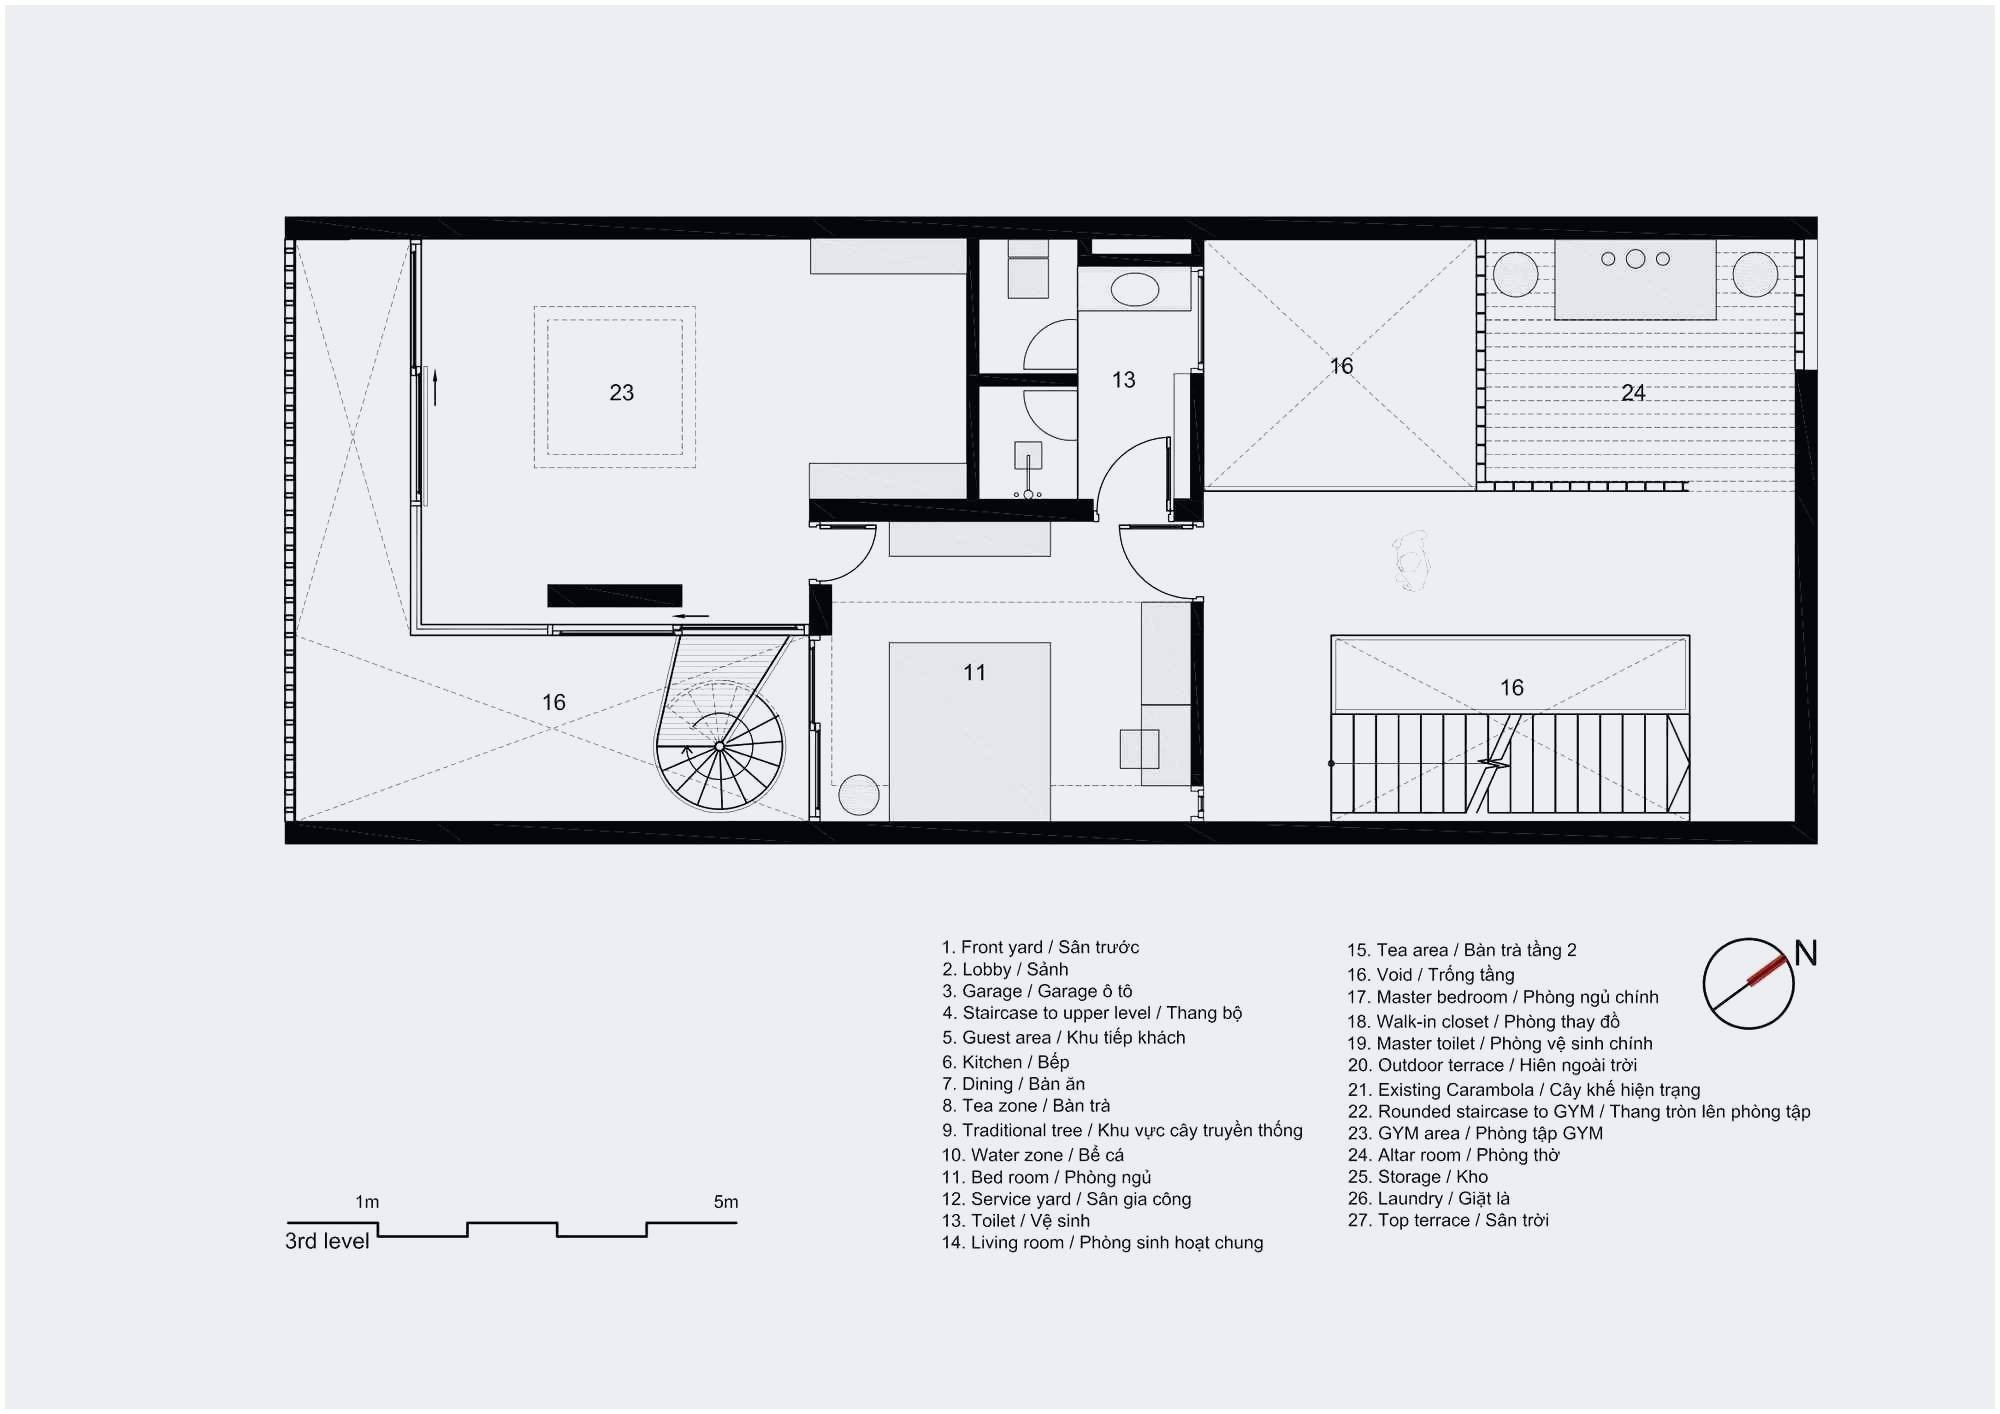door: (1114, 523, 1191, 601), (1094, 433, 1171, 508), (822, 522, 881, 586), (1021, 314, 1076, 373), (1021, 389, 1074, 442)
